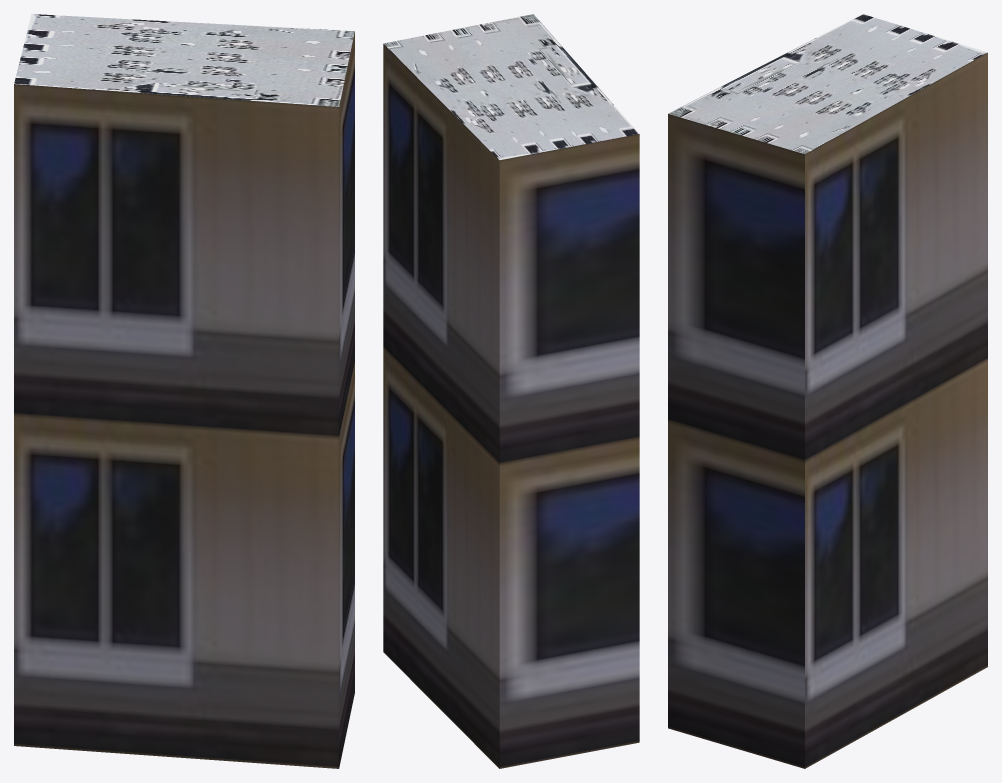
File: ResTex__4820.fbx
3 views of the same model, side by side, from view 1: azimuth 30°, elevation 25°; view 2: azimuth 150°, elevation 25°; view 3: azimuth 270°, elevation 25° (orthographic). The views are drawn at different scales.
Parts seen in each view (by area): view 1: CityEngineMaterial_5_m, CityEngineMaterial_8_m; view 2: CityEngineMaterial_5_m, CityEngineMaterial_8_m; view 3: CityEngineMaterial_5_m, CityEngineMaterial_8_m.
Boxes of the visible parts, bbox=[...] form: CityEngineMaterial_5_m: bbox=[14, 32, 354, 768]; CityEngineMaterial_8_m: bbox=[14, 14, 354, 106]; CityEngineMaterial_5_m: bbox=[383, 44, 639, 768]; CityEngineMaterial_8_m: bbox=[383, 14, 639, 160]; CityEngineMaterial_5_m: bbox=[668, 52, 987, 768]; CityEngineMaterial_8_m: bbox=[668, 14, 987, 154].
Size of the model in its own units: 2.94 by 6 by 2.83.
2 materials, 2 textured.
